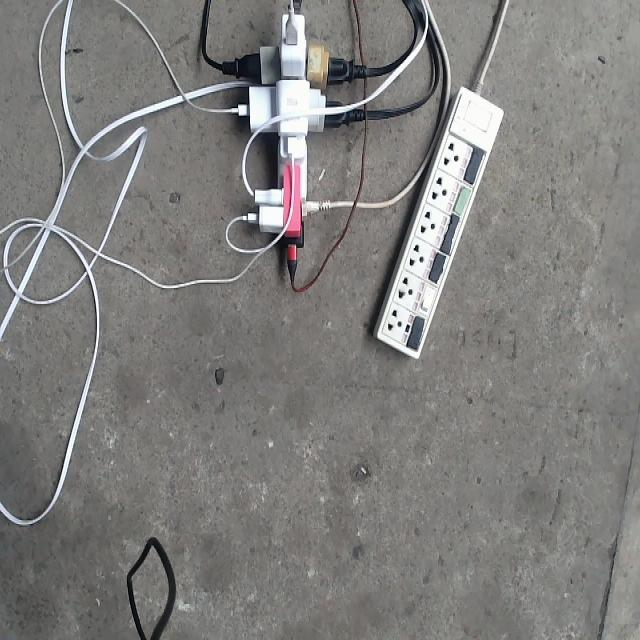-: (217, 12, 344, 280)
